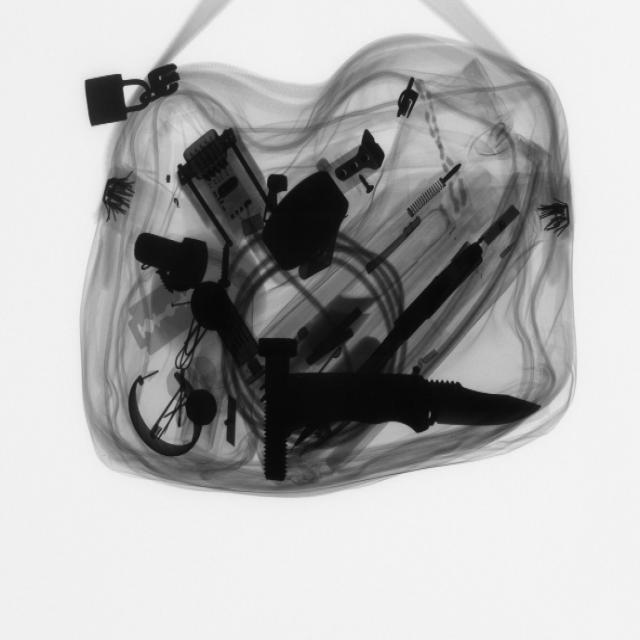BLADE: (125, 263, 202, 358)
KNIFE: (243, 356, 547, 445)
